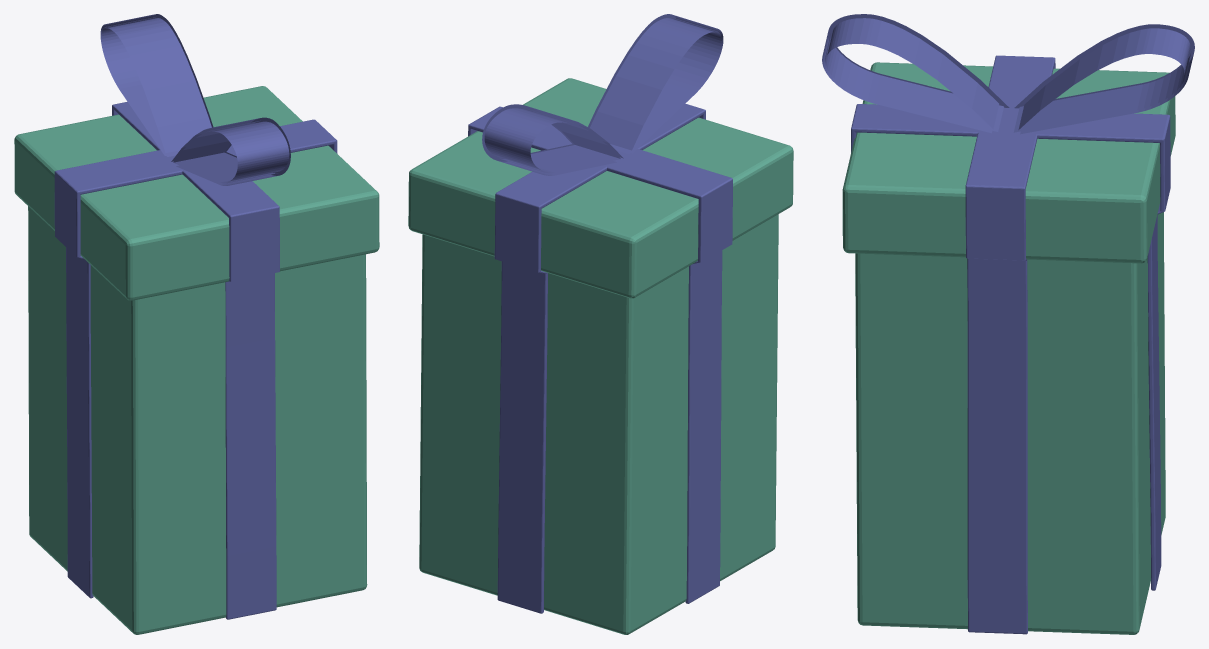
File: gift_2.glb
The picture shows the model from 3 angles, left to right: view 1: azimuth 30°, elevation 25°; view 2: azimuth 150°, elevation 25°; view 3: azimuth 270°, elevation 25°; orthographic projection. The views are drawn at different scales.
Visible parts, largest first — view 1: Doos, Deksel, Side (×2), Extrude.3, Up (×2); view 2: Doos, Deksel, Side (×2), Extrude.3, Up (×2); view 3: Doos, Deksel, Side (×2), Extrude.3, Up (×2).
Part boxes in pixels (bbox=[...]): Doos: bbox=[28, 206, 367, 634]; Deksel: bbox=[14, 86, 379, 300]; Side (×2): bbox=[54, 101, 337, 619]; Extrude.3: bbox=[100, 14, 290, 185]; Up (×2): bbox=[55, 102, 336, 217]; Doos: bbox=[419, 214, 778, 634]; Deksel: bbox=[408, 78, 793, 298]; Side (×2): bbox=[468, 106, 732, 613]; Extrude.3: bbox=[482, 14, 723, 175]; Up (×2): bbox=[469, 103, 732, 208]; Doos: bbox=[855, 212, 1165, 634]; Deksel: bbox=[842, 62, 1175, 263]; Side (×2): bbox=[851, 62, 1170, 634]; Extrude.3: bbox=[822, 14, 1194, 134]; Up (×2): bbox=[851, 55, 1168, 188].
Size of the model in its own units: 1.17 by 2.1 by 1.31.
